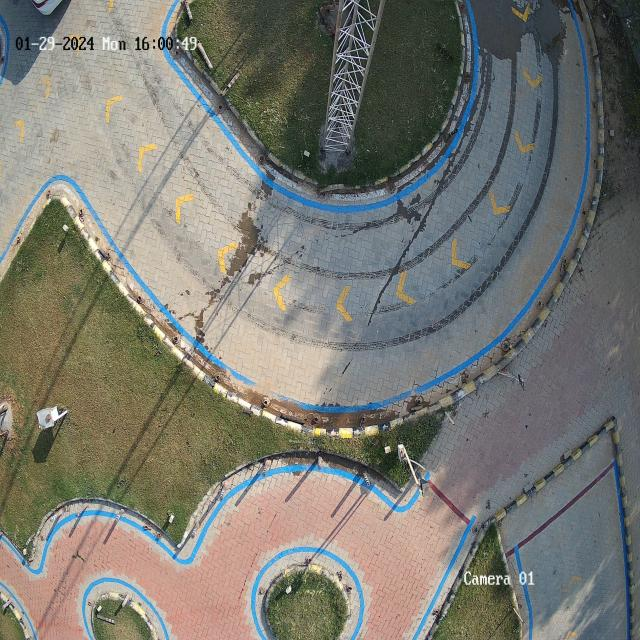car: (31, 0, 61, 15)
